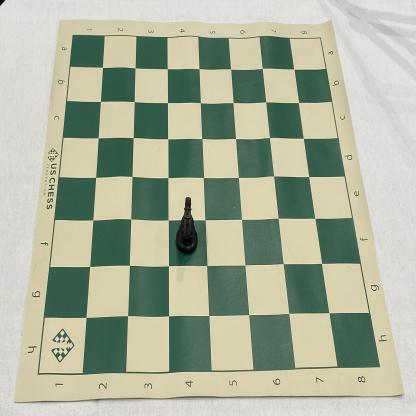black-knight: (175, 196, 198, 255)
